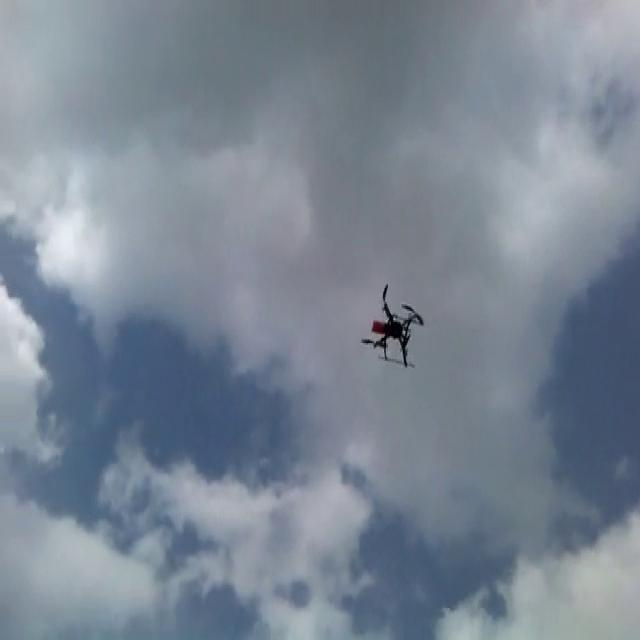drone: (359, 279, 422, 368)
